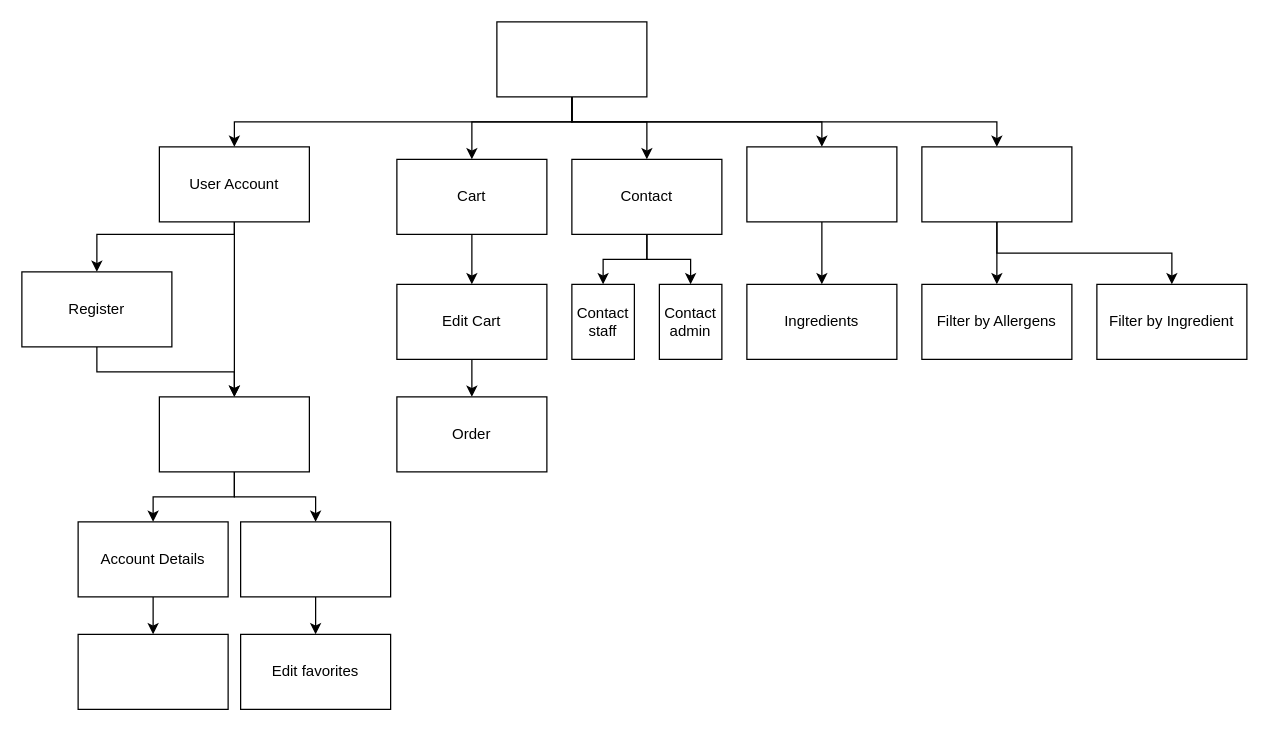
Image size: 1269x731. Some labels were removed from this diagram. The box of each missing label's shape, as (x1, y1, x2, y2) in pixels:
Digital Menu: (496, 21, 647, 97)
Edit/delete Account: (77, 633, 228, 709)
Favorites: (239, 521, 391, 597)
Filter: (921, 146, 1072, 222)
Items: (746, 146, 897, 222)
Login: (158, 396, 309, 472)
